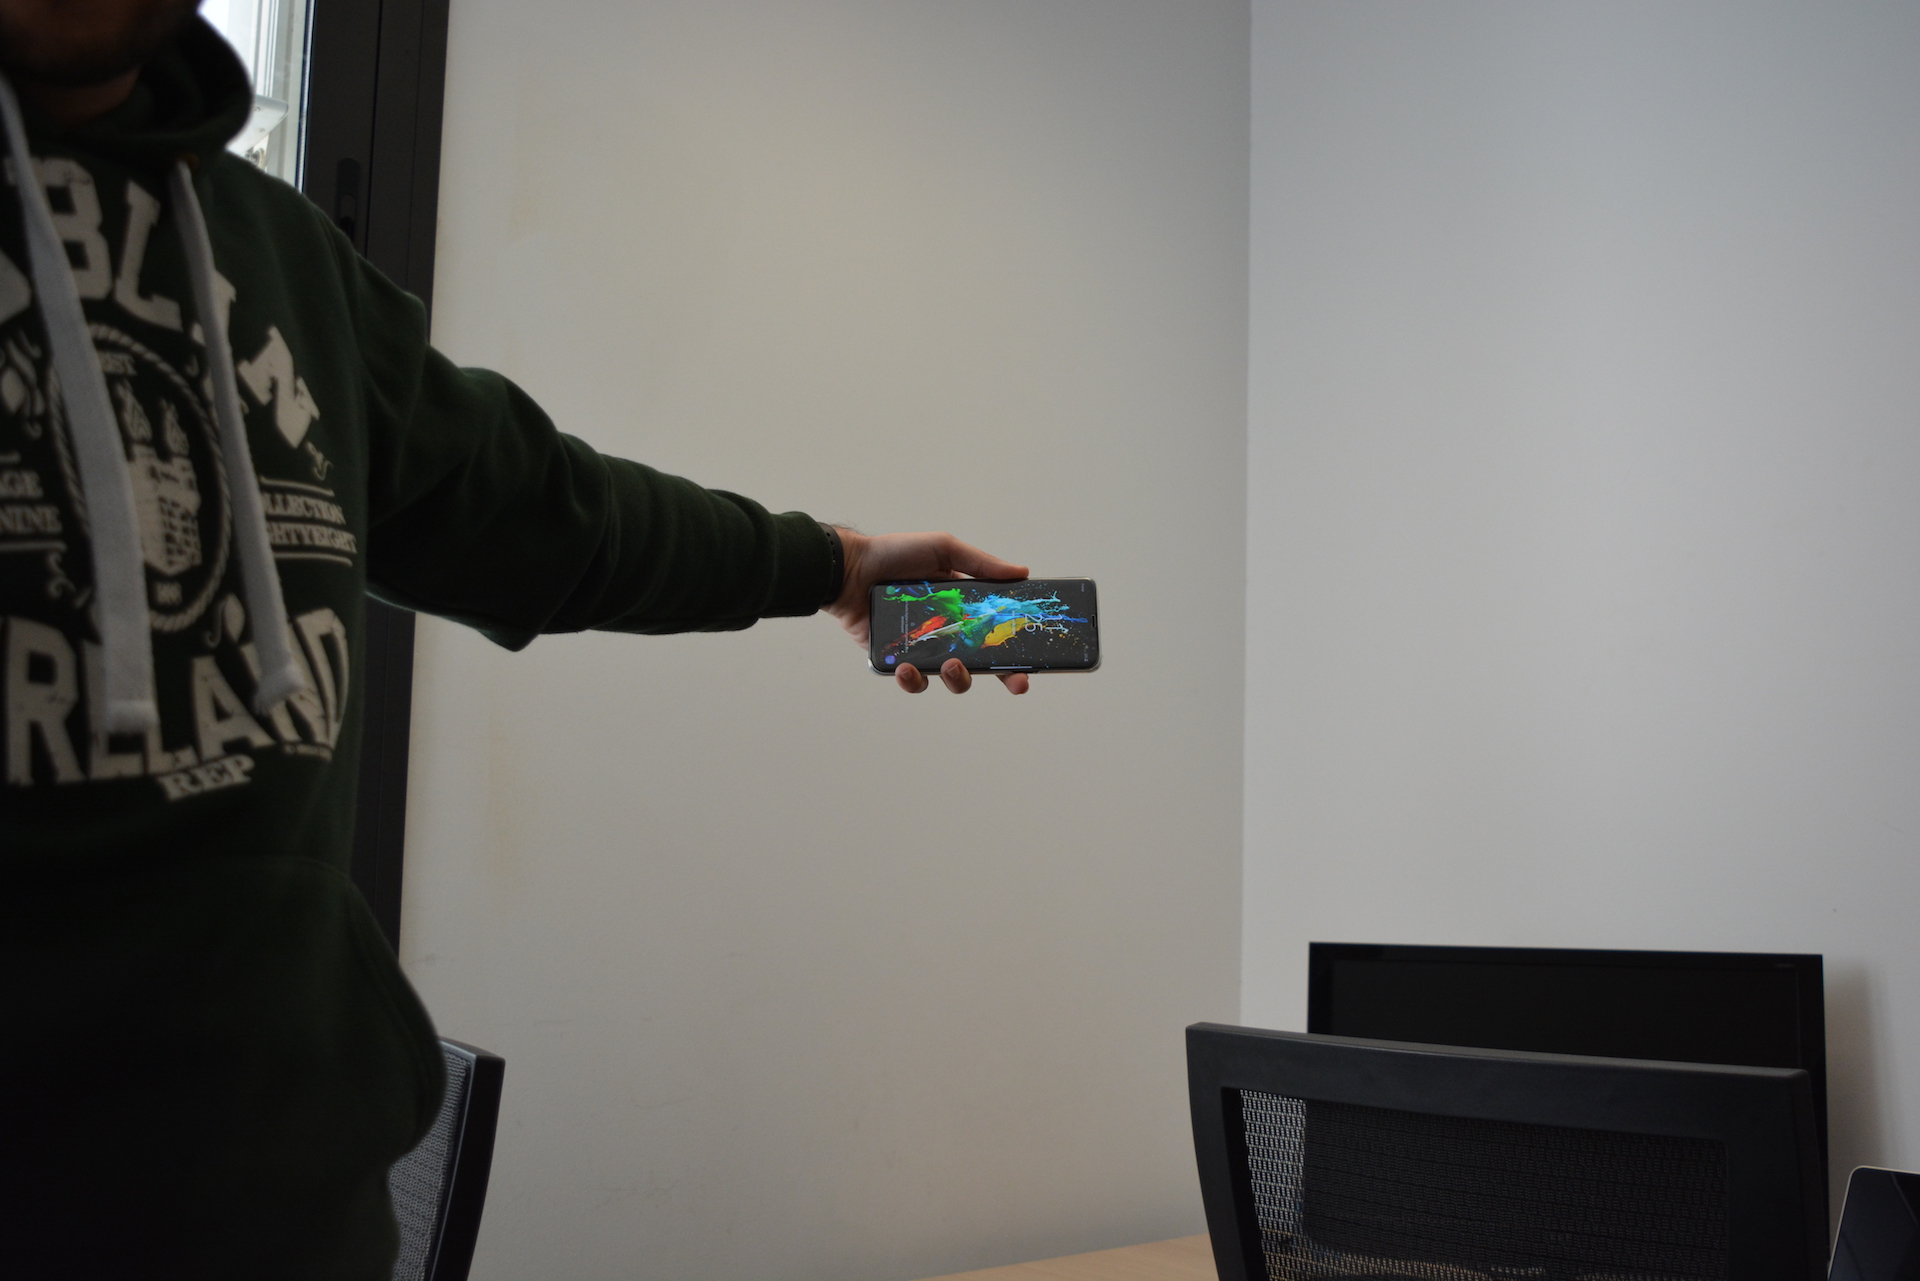smartphone: (866, 575, 1104, 678)
